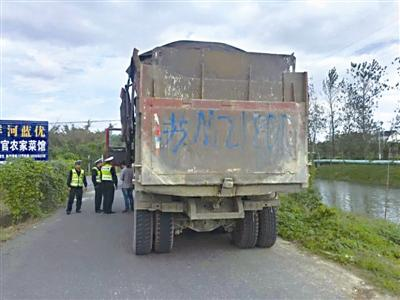chaozhai: (96, 32, 314, 259)
